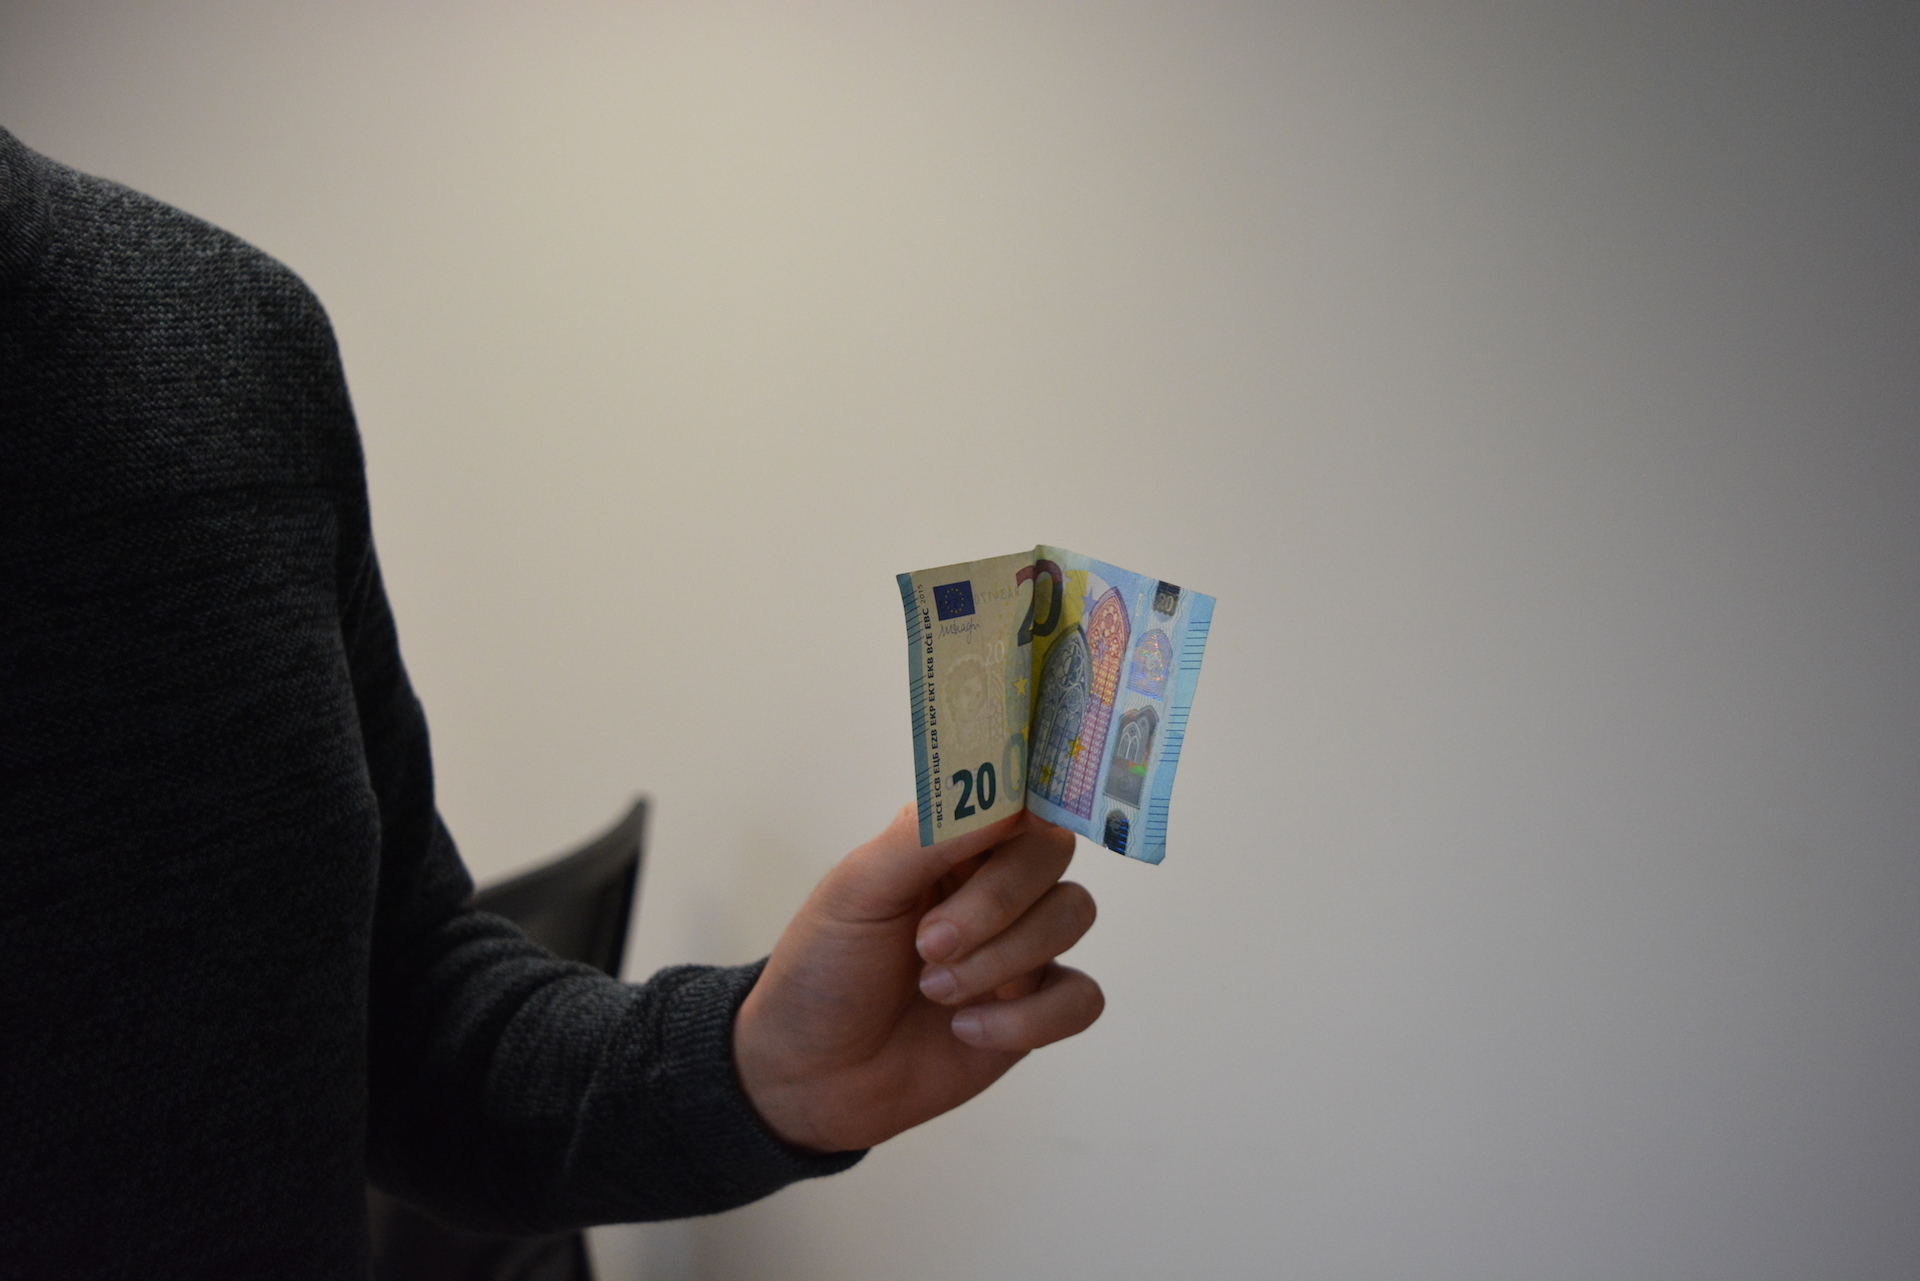billete: (895, 543, 1221, 868)
